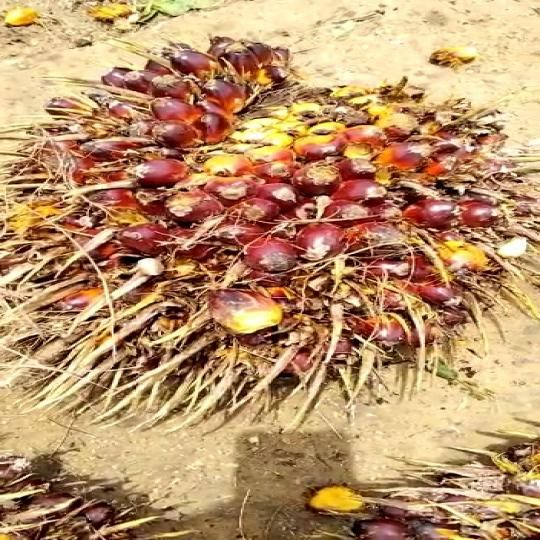masak: (0, 43, 540, 424)
